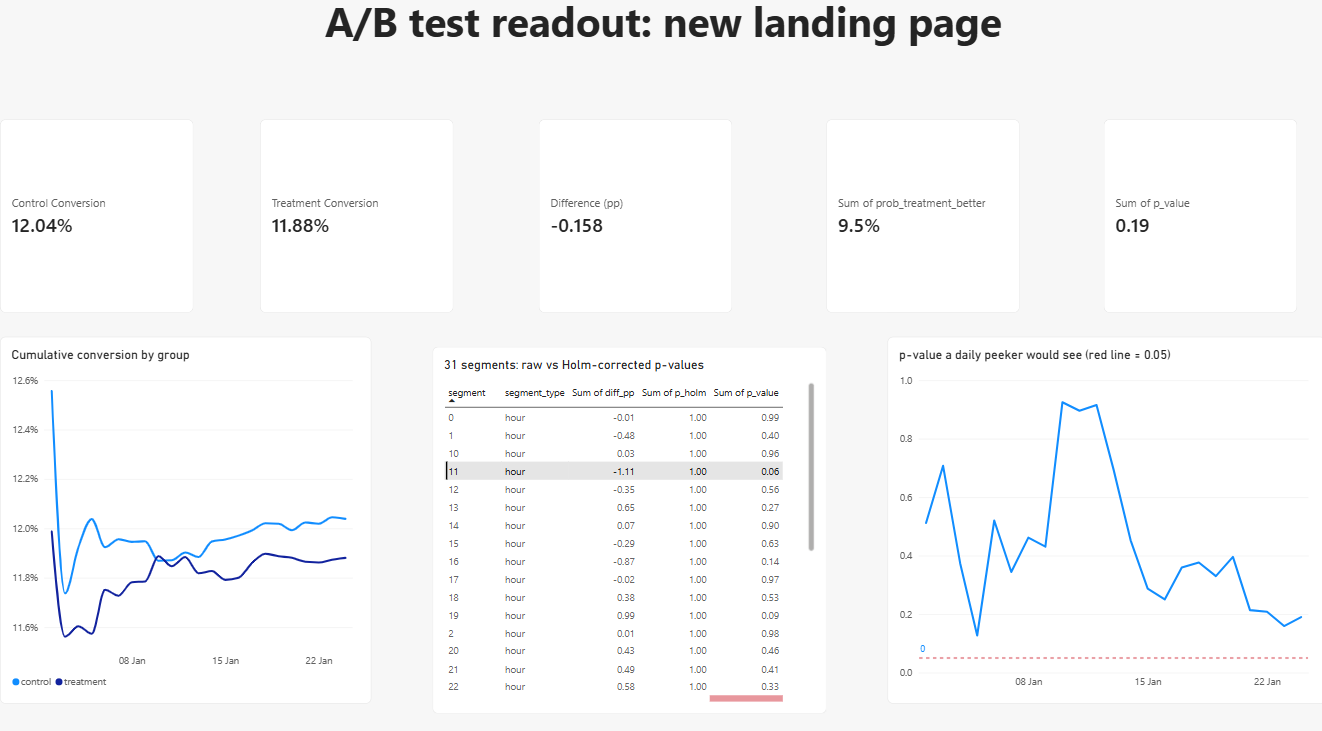

The dashboard page shown, as its layout file describes it:
{"tool":"powerbi","page":{"name":"Page 1","canvas":[1920,1080],"ordinal":0},"visuals":[{"type":"cardVisual","fields":{"Data":["ab_clean.Control Conversion"]},"box":[0,183.2,280,280],"z":0},{"type":"cardVisual","fields":{"Data":["ab_clean.Treatment Conversion"]},"box":[376.7,183.2,280,280],"z":1000},{"type":"cardVisual","fields":{"Data":["ab_clean.Difference (pp)"]},"box":[780.1,183.2,280,280],"z":2000},{"type":"cardVisual","title":"Chance new page is better","fields":{"Data":["Sum(readout_summary.prob_treatment_better)"]},"box":[1195.9,183.2,280,280],"z":3000},{"type":"cardVisual","fields":{"Data":["Sum(readout_summary.p_value)"]},"box":[1597.3,183.2,280,280],"z":3001},{"type":"lineChart","title":"Cumulative conversion by group","fields":{"Category":["ab_clean.date"],"Series":["ab_clean.group"],"Y":["ab_clean.Cumulative Conversion"]},"box":[0,498.1,537.2,531],"z":3002},{"type":"lineChart","title":"p-value a daily peeker would see (red line = 0.05)","fields":{"Category":["peeking_daily.date"],"Y":["Sum(peeking_daily.p_value)"]},"box":[1284.4,498.1,636,531],"z":3003},{"type":"tableEx","title":"31 segments: raw vs Holm-corrected p-values","fields":{"Values":["segments.segment","segments.segment_type","Sum(segments.diff_pp)","Sum(segments.p_holm)","Sum(segments.p_value)"]},"box":[625.7,512.5,570.2,531],"z":3004},{"type":"textbox","box":[0,0,1920.4,135.8],"z":3005}]}

Visuals, with their boxes in screenshot pixels (x1, y1, x2, y2), scaled from the page's 1920x1080 canvas onto the 1322x731 screenshot:
cardVisual - ab_clean.Control Conversion: crop(0, 124, 193, 314)
cardVisual - ab_clean.Treatment Conversion: crop(259, 124, 452, 314)
cardVisual - ab_clean.Difference (pp): crop(537, 124, 730, 314)
"Chance new page is better" cardVisual: crop(823, 124, 1016, 314)
cardVisual - Sum(readout_summary.p_value): crop(1100, 124, 1293, 314)
"Cumulative conversion by group" lineChart: crop(0, 337, 370, 697)
"p-value a daily peeker would see (red line = 0.05)" lineChart: crop(884, 337, 1321, 697)
"31 segments: raw vs Holm-corrected p-values" tableEx: crop(431, 347, 823, 706)
textbox: crop(0, 0, 1321, 92)
